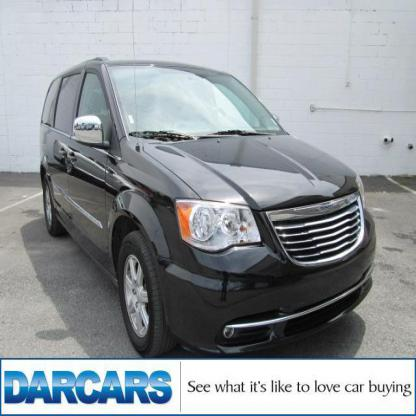Vehicle: (39, 54, 382, 362)
